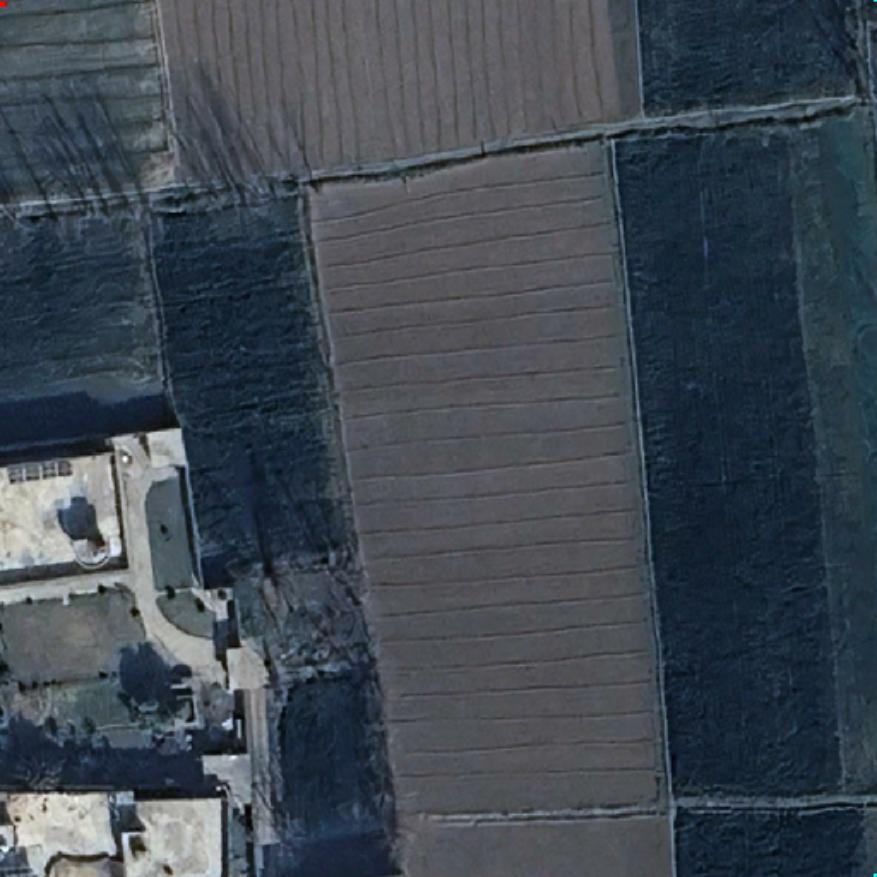Solarpanel: (3, 456, 74, 486)
